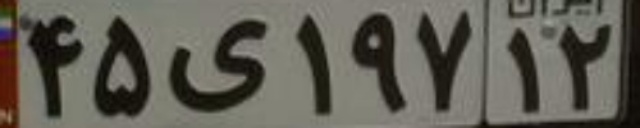1: (295, 15, 332, 115), (504, 27, 540, 113)
2: (558, 21, 614, 111)
4: (28, 14, 82, 119)
5: (89, 14, 151, 116)
7: (416, 10, 474, 114)
9: (350, 12, 406, 111)
ye: (168, 16, 273, 114)
